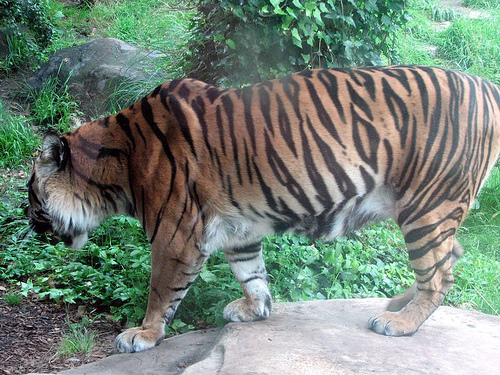Tigre: (24, 53, 500, 338)
